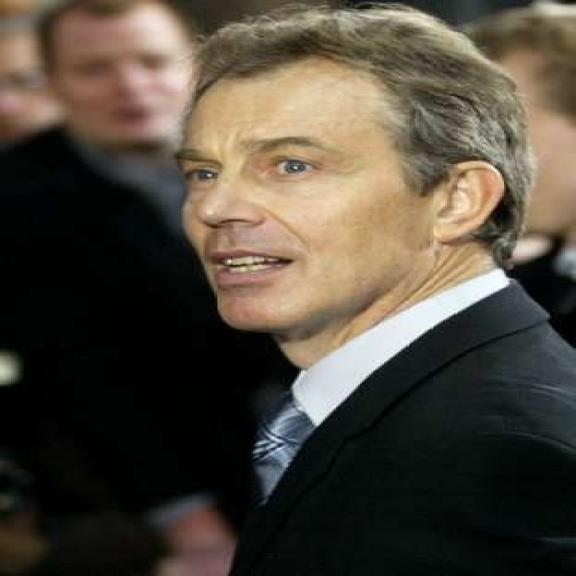face: (178, 51, 504, 334), (57, 8, 210, 148)
